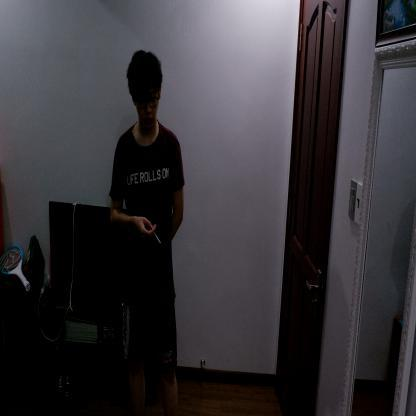cigarette: (154, 232, 162, 244)
person: (108, 45, 189, 415)
